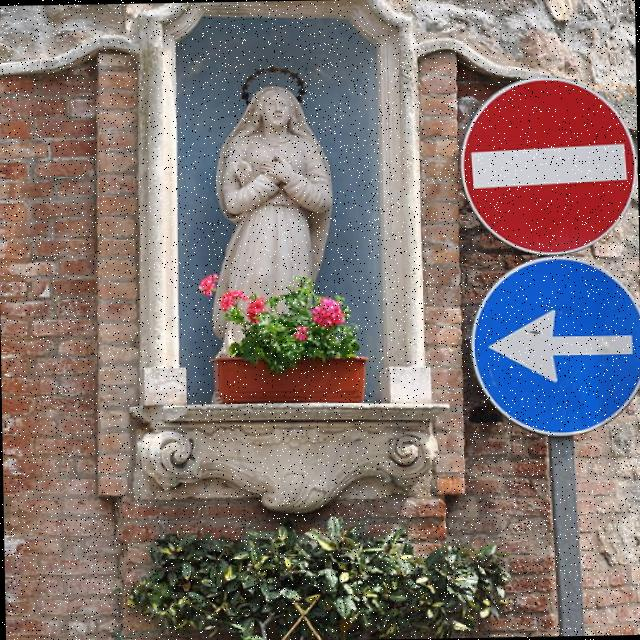compulsory_keep_right: (458, 248, 640, 453)
do_not_enter: (448, 71, 639, 258)
